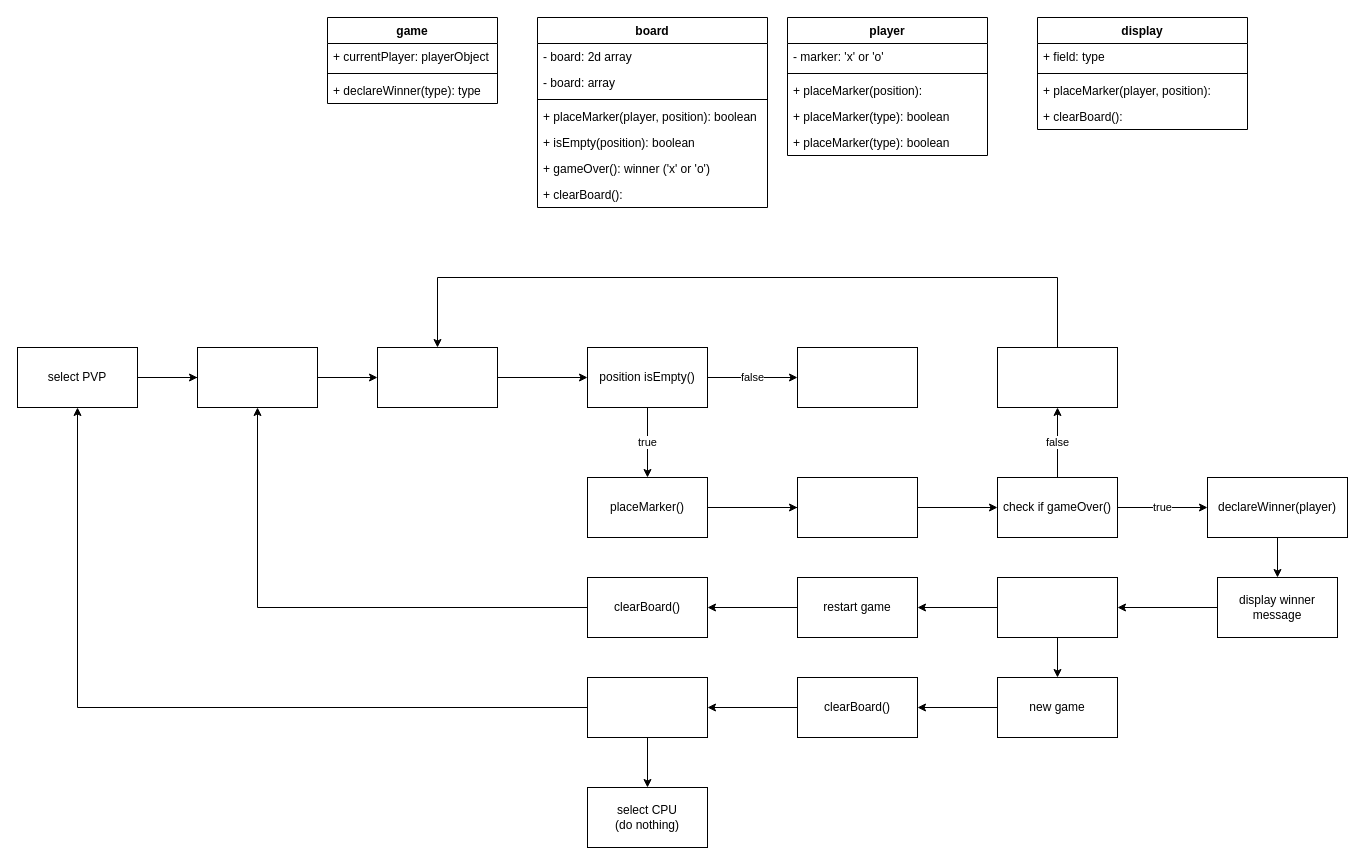
Image size: 1365x865. Some labels were removed from this diagram. The centre of each missing label's shape, as x and y in pixels:
currentPlayer('o'): point 1057,377
currentPlayer('x'): point 257,377
display marker on board: point 857,507
do nothing: point 857,377
placeMarker(player): point 437,377
wait for player to select NEW GAME or RESTART GAME: point 1057,607
wait for player to select PVP or CPU: point 647,707
